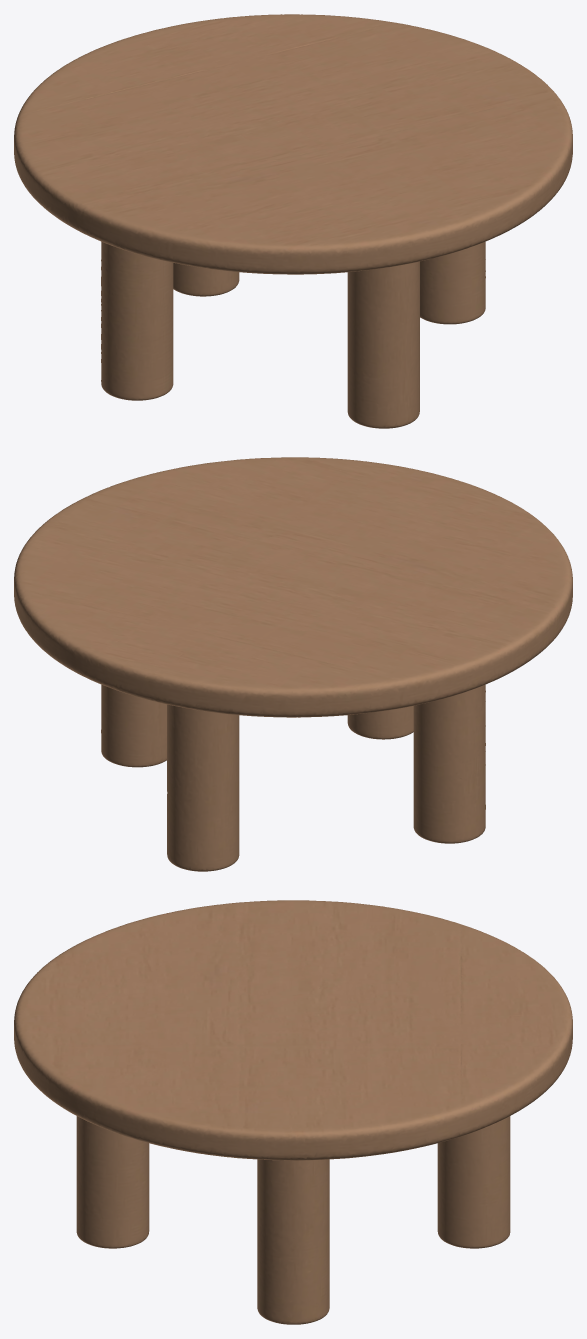
The model's file is table.glb.
3 renders of one model, top to bottom at view 1: azimuth 30°, elevation 25°; view 2: azimuth 150°, elevation 25°; view 3: azimuth 270°, elevation 25°, orthographic.
Visible parts, largest first — view 1: geometry_0; view 2: geometry_0; view 3: geometry_0.
Part boxes in pixels (left/top/right/bottom): geometry_0: left=14, top=14, right=572, bottom=428; geometry_0: left=14, top=457, right=572, bottom=871; geometry_0: left=14, top=900, right=572, bottom=1324.
Size of the model in its own units: 1 by 0.4352 by 1.
1 material, 1 textured.
